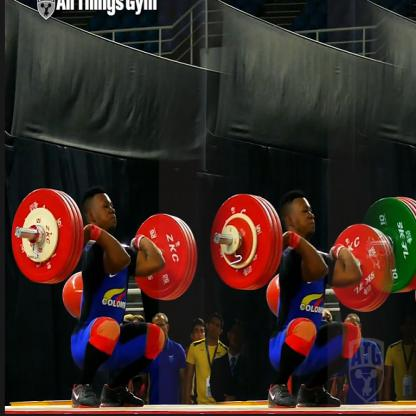Barbell: (7, 181, 88, 290), (205, 188, 287, 293)
